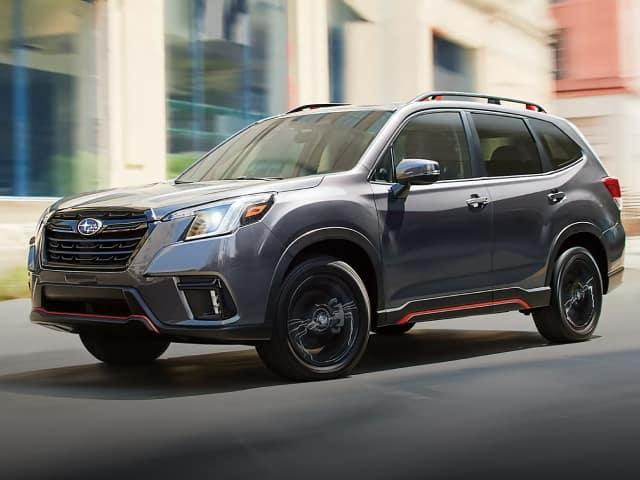subaru: (71, 212, 112, 241)
